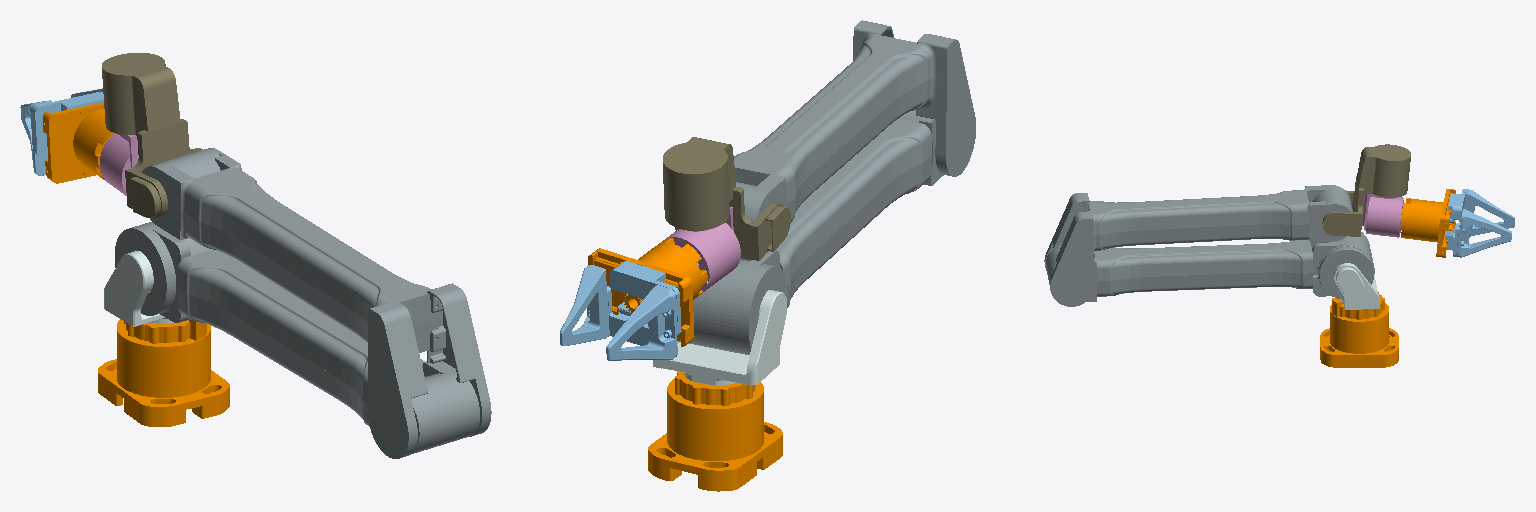
The robot description file, URDF, robot "output":
<?xml version="1.0" ?>
<!-- Generated using onshape-to-robot -->
<!-- Onshape document_id: c28f7133428da17cd1494949 -->
<robot name="output">
  <mujoco>
    <compiler angle="radian" meshdir="assets" autolimits="true"/>
  </mujoco>
  <!-- Link base -->
  <link name="base">
    <inertial>
      <origin xyz="0.000217437 -0.000468566 0.0397419" rpy="0 0 0"/>
      <mass value="1.09032"/>
      <inertia ixx="0.00120414" ixy="3.82071e-06" ixz="-1.25344e-06" iyy="0.00112652" iyz="6.38983e-07" izz="0.00123452"/>
    </inertial>
    <!-- Part base -->
    <visual>
      <origin xyz="0.00250966 0.0534862 -1.00632" rpy="0 -0.00763268 1.5708"/>
      <geometry>
        <mesh filename="base.stl"/>
      </geometry>
      <material name="base_material">
        <color rgba="1 0.6 0 1"/>
      </material>
    </visual>
    <collision>
      <origin xyz="0.00250966 0.0534862 -1.00632" rpy="0 -0.00763268 1.5708"/>
      <geometry>
        <mesh filename="base.stl"/>
      </geometry>
    </collision>
  </link>
  <!-- Link link1 -->
  <link name="link1">
    <inertial>
      <origin xyz="-9.56697e-05 -0.00522779 -0.0216352" rpy="0 0 0"/>
      <mass value="0.401154"/>
      <inertia ixx="0.00030925" ixy="-2.46425e-06" ixz="-4.75225e-06" iyy="0.000681766" iyz="-7.1253e-05" izz="0.000555979"/>
    </inertial>
    <!-- Part link1 -->
    <visual>
      <origin xyz="0.0534862 0.00250966 1.09193" rpy="3.14159 0.00763268 -0"/>
      <geometry>
        <mesh filename="link1.stl"/>
      </geometry>
      <material name="link1_material">
        <color rgba="0.862745 0.937255 0.929412 1"/>
      </material>
    </visual>
    <collision>
      <origin xyz="0.0534862 0.00250966 1.09193" rpy="3.14159 0.00763268 -0"/>
      <geometry>
        <mesh filename="link1.stl"/>
      </geometry>
    </collision>
  </link>
  <!-- Link link2 -->
  <link name="link2">
    <inertial>
      <origin xyz="-0.000175493 0.172117 -0.0295276" rpy="0 0 0"/>
      <mass value="1.45435"/>
      <inertia ixx="0.030477" ixy="3.73559e-06" ixz="1.79131e-07" iyy="0.000894262" iyz="-3.60752e-05" izz="0.030444"/>
    </inertial>
    <!-- Part link2 -->
    <visual>
      <origin xyz="-1.14882 0.0239779 0.0229862" rpy="3.14159 -1.56316 0"/>
      <geometry>
        <mesh filename="link2.stl"/>
      </geometry>
      <material name="link2_material">
        <color rgba="0.611765 0.658824 0.670588 1"/>
      </material>
    </visual>
    <collision>
      <origin xyz="-1.14882 0.0239779 0.0229862" rpy="3.14159 -1.56316 0"/>
      <geometry>
        <mesh filename="link2.stl"/>
      </geometry>
    </collision>
  </link>
  <!-- Link link3 -->
  <link name="link3">
    <inertial>
      <origin xyz="0.194318 0.0673381 0.0357453" rpy="0 0 0"/>
      <mass value="1.21513"/>
      <inertia ixx="0.00111392" ixy="-0.00109614" ixz="1.47267e-05" iyy="0.0195978" iyz="-5.52422e-06" izz="0.0197481"/>
    </inertial>
    <!-- Part link3 -->
    <visual>
      <origin xyz="0.364721 -1.149 0.079431" rpy="-1.5708 -1.5708 0"/>
      <geometry>
        <mesh filename="link3.stl"/>
      </geometry>
      <material name="link3_material">
        <color rgba="0.611765 0.658824 0.670588 1"/>
      </material>
    </visual>
    <collision>
      <origin xyz="0.364721 -1.149 0.079431" rpy="-1.5708 -1.5708 0"/>
      <geometry>
        <mesh filename="link3.stl"/>
      </geometry>
    </collision>
  </link>
  <!-- Link link4 -->
  <link name="link4">
    <inertial>
      <origin xyz="0.0573245 0.0536732 0.0330434" rpy="0 0 0"/>
      <mass value="0.454939"/>
      <inertia ixx="0.000606929" ixy="-0.000253487" ixz="-2.16662e-05" iyy="0.000482847" iyz="-2.11354e-05" izz="0.000768219"/>
    </inertial>
    <!-- Part link4 -->
    <visual>
      <origin xyz="-0.00868006 -1.221 0.078381" rpy="-1.5708 -1.5708 0"/>
      <geometry>
        <mesh filename="link4.stl"/>
      </geometry>
      <material name="link4_material">
        <color rgba="0.545098 0.52549 0.419608 1"/>
      </material>
    </visual>
    <collision>
      <origin xyz="-0.00868006 -1.221 0.078381" rpy="-1.5708 -1.5708 0"/>
      <geometry>
        <mesh filename="link4.stl"/>
      </geometry>
    </collision>
  </link>
  <!-- Link link5 -->
  <link name="link5">
    <inertial>
      <origin xyz="-3.55003e-05 0.000825911 -0.0375847" rpy="0 0 0"/>
      <mass value="0.403307"/>
      <inertia ixx="0.000219791" ixy="3.49657e-07" ixz="-2.10549e-07" iyy="0.000181053" iyz="1.29173e-05" izz="0.000184284"/>
    </inertial>
    <!-- Part link5 -->
    <visual>
      <origin xyz="0.0444816 -0.082679 -1.2615" rpy="0 -0 -0"/>
      <geometry>
        <mesh filename="link5.stl"/>
      </geometry>
      <material name="link5_material">
        <color rgba="0.827451 0.623529 0.784314 1"/>
      </material>
    </visual>
    <collision>
      <origin xyz="0.0444816 -0.082679 -1.2615" rpy="0 -0 -0"/>
      <geometry>
        <mesh filename="link5.stl"/>
      </geometry>
    </collision>
  </link>
  <!-- Link gripper -->
  <link name="gripper">
    <inertial>
      <origin xyz="0.000249533 3.57285e-05 -0.0293014" rpy="0 0 0"/>
      <mass value="0.552865"/>
      <inertia ixx="0.000324525" ixy="-5.4495e-07" ixz="-4.83792e-06" iyy="0.000409403" iyz="-7.91039e-07" izz="0.000368814"/>
    </inertial>
    <!-- Part gripper -->
    <visual>
      <origin xyz="0.0444816 -1.221 0.118279" rpy="-1.5708 -0 0"/>
      <geometry>
        <mesh filename="gripper.stl"/>
      </geometry>
      <material name="gripper_material">
        <color rgba="1 0.6 0 1"/>
      </material>
    </visual>
    <collision>
      <origin xyz="0.0444816 -1.221 0.118279" rpy="-1.5708 -0 0"/>
      <geometry>
        <mesh filename="gripper.stl"/>
      </geometry>
    </collision>
  </link>
  <!-- Link tip_right -->
  <link name="tip_right">
    <inertial>
      <origin xyz="0.0221611 -0.0130865 -0.0425915" rpy="0 0 0"/>
      <mass value="0.0698313"/>
      <inertia ixx="4.79425e-05" ixy="1.00265e-05" ixz="1.14344e-05" iyy="5.1531e-05" iyz="-1.1083e-05" izz="4.99952e-05"/>
    </inertial>
    <!-- Part tip_right -->
    <visual>
      <origin xyz="-0.175579 -1.2435 -0.00058039" rpy="-1.5708 -1.5708 0"/>
      <geometry>
        <mesh filename="tip_right.stl"/>
      </geometry>
      <material name="tip_right_material">
        <color rgba="0.596078 0.788235 0.921569 1"/>
      </material>
    </visual>
    <collision>
      <origin xyz="-0.175579 -1.2435 -0.00058039" rpy="-1.5708 -1.5708 0"/>
      <geometry>
        <mesh filename="tip_right.stl"/>
      </geometry>
    </collision>
  </link>
  <!-- Joint from gripper to tip_right -->
  <joint name="joint7" type="prismatic">
    <origin xyz="0.0144481 0.0225 -0.0573" rpy="0 1.5708 0"/>
    <parent link="gripper"/>
    <child link="tip_right"/>
    <axis xyz="0 0 1"/>
    <limit effort="10" velocity="10" lower="-0.0168862" upper="0.0306138"/>
  </joint>
  <!-- Link tip_left -->
  <link name="tip_left">
    <inertial>
      <origin xyz="0.0221611 -0.0130865 -0.0425915" rpy="0 0 0"/>
      <mass value="0.0698313"/>
      <inertia ixx="4.79425e-05" ixy="1.00265e-05" ixz="1.14344e-05" iyy="5.1531e-05" iyz="-1.1083e-05" izz="4.99952e-05"/>
    </inertial>
    <!-- Part tip_left -->
    <visual>
      <origin xyz="-0.175579 1.1985 -0.0895435" rpy="1.5708 1.5708 0"/>
      <geometry>
        <mesh filename="tip_left.stl"/>
      </geometry>
      <material name="tip_left_material">
        <color rgba="0.596078 0.788235 0.921569 1"/>
      </material>
    </visual>
    <collision>
      <origin xyz="-0.175579 1.1985 -0.0895435" rpy="1.5708 1.5708 0"/>
      <geometry>
        <mesh filename="tip_left.stl"/>
      </geometry>
    </collision>
  </link>
  <!-- Joint from gripper to tip_left -->
  <joint name="joint8" type="prismatic">
    <origin xyz="-0.0281882 -0.0225 -0.0573" rpy="-3.14159 1.5708 0"/>
    <parent link="gripper"/>
    <child link="tip_left"/>
    <axis xyz="0 0 1"/>
    <limit effort="10" velocity="10" lower="-0.0306263" upper="0.0168737"/>
  </joint>
  <!-- Joint from link5 to gripper -->
  <joint name="joint6" type="revolute">
    <origin xyz="2.39858e-07 0.0356 -0.0404996" rpy="1.5708 0.00466958 -0"/>
    <parent link="link5"/>
    <child link="gripper"/>
    <axis xyz="0 0 1"/>
    <limit effort="10" velocity="10" lower="-2.08973" upper="2.09906"/>
  </joint>
  <!-- Joint from link4 to link5 -->
  <joint name="joint5" type="revolute">
    <origin xyz="0.0739989 0.0405003 0.0338995" rpy="1.5708 -1.38992 3.14159"/>
    <parent link="link4"/>
    <child link="link5"/>
    <axis xyz="0 0 1"/>
    <limit effort="10" velocity="10" lower="-1.38992" upper="1.75167"/>
  </joint>
  <!-- Joint from link3 to link4 -->
  <joint name="joint4" type="revolute">
    <origin xyz="0.373401 0.072 0.00105" rpy="-0 -0 -0.111288"/>
    <parent link="link3"/>
    <child link="link4"/>
    <axis xyz="0 0 1"/>
    <limit effort="10" velocity="10" lower="-1.45951" upper="1.68208"/>
  </joint>
  <!-- Joint from link2 to link3 -->
  <joint name="joint3" type="revolute">
    <origin xyz="7.57417e-05 0.3887 0.00463563" rpy="3.13396 -0.00012008 -1.58653"/>
    <parent link="link2"/>
    <child link="link3"/>
    <axis xyz="0 0 1"/>
    <limit effort="10" velocity="10" lower="-0.0157332" upper="3.12586"/>
  </joint>
  <!-- Joint from link1 to link2 -->
  <joint name="joint2" type="revolute">
    <origin xyz="0.03025 -0.0214683 -0.0568824" rpy="-3.14159 -1.5708 0"/>
    <parent link="link1"/>
    <child link="link2"/>
    <axis xyz="0 0 1"/>
    <limit effort="10" velocity="10" lower="0" upper="3.14159"/>
  </joint>
  <!-- Joint from base to link1 -->
  <joint name="joint1" type="revolute">
    <origin xyz="-0 -0 0.0856176" rpy="3.14159 -0 -3.052"/>
    <parent link="base"/>
    <child link="link1"/>
    <axis xyz="0 0 1"/>
    <limit effort="10" velocity="10" lower="-1.39394" upper="4.27838"/>
  </joint>
</robot>

--- Render facts (derived) ---
The picture shows the robot from 3 angles, left to right: view 1: azimuth 30°, elevation 25°; view 2: azimuth 150°, elevation 25°; view 3: azimuth 270°, elevation 25°; orthographic projection.
Robot: output — 9 links, 8 joints (6 revolute, 2 prismatic); root link base; default pose: all joints at 0.
Links seen in each view (by area): view 1: link3, link2, base, link4, gripper, link1, tip_right, link5; view 2: link3, link2, base, link4, link1, tip_right, gripper, tip_left, link5; view 3: link3, link2, base, link4, gripper, tip_left, link5, link1, tip_right.
Link boxes in pixels (x1=…): link3: x1=142, y1=148, x2=491, y2=458; link2: x1=115, y1=222, x2=479, y2=453; base: x1=98, y1=319, x2=229, y2=426; link4: x1=102, y1=53, x2=202, y2=218; gripper: x1=43, y1=102, x2=115, y2=183; link1: x1=104, y1=251, x2=173, y2=326; tip_right: x1=20, y1=92, x2=103, y2=175; link5: x1=100, y1=134, x2=138, y2=195; link3: x1=734, y1=20, x2=975, y2=252; link2: x1=688, y1=110, x2=943, y2=354; base: x1=648, y1=371, x2=782, y2=491; link4: x1=663, y1=137, x2=790, y2=260; link1: x1=653, y1=290, x2=786, y2=385; tip_right: x1=606, y1=261, x2=681, y2=360; gripper: x1=588, y1=238, x2=707, y2=346; tip_left: x1=560, y1=265, x2=648, y2=345; link5: x1=666, y1=207, x2=740, y2=291; link3: x1=1044, y1=185, x2=1352, y2=306; link2: x1=1046, y1=232, x2=1374, y2=301; base: x1=1320, y1=292, x2=1398, y2=367; link4: x1=1322, y1=144, x2=1410, y2=236; gripper: x1=1400, y1=189, x2=1455, y2=257; tip_left: x1=1445, y1=209, x2=1511, y2=257; link5: x1=1362, y1=193, x2=1403, y2=237; link1: x1=1334, y1=263, x2=1379, y2=309; tip_right: x1=1448, y1=189, x2=1514, y2=236.
Bounding box of the posed robot: 0.1361 × 0.6637 × 0.3135 m (x, y, z).
9 mesh visuals loaded from 9 distinct referenced files (9 binary STL).
